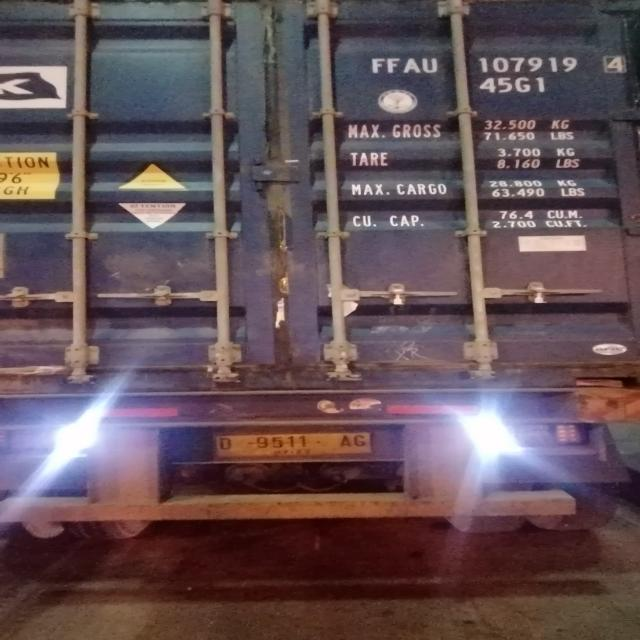seal: (388, 288, 412, 304), (531, 286, 548, 305)
